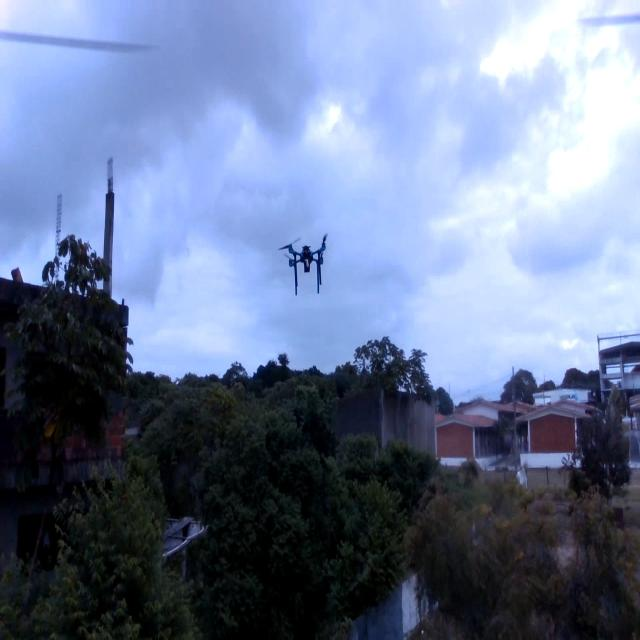-uav-: (270, 220, 342, 306)
